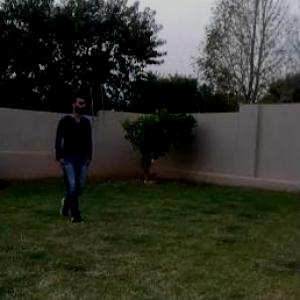follow: (50, 86, 100, 230)
